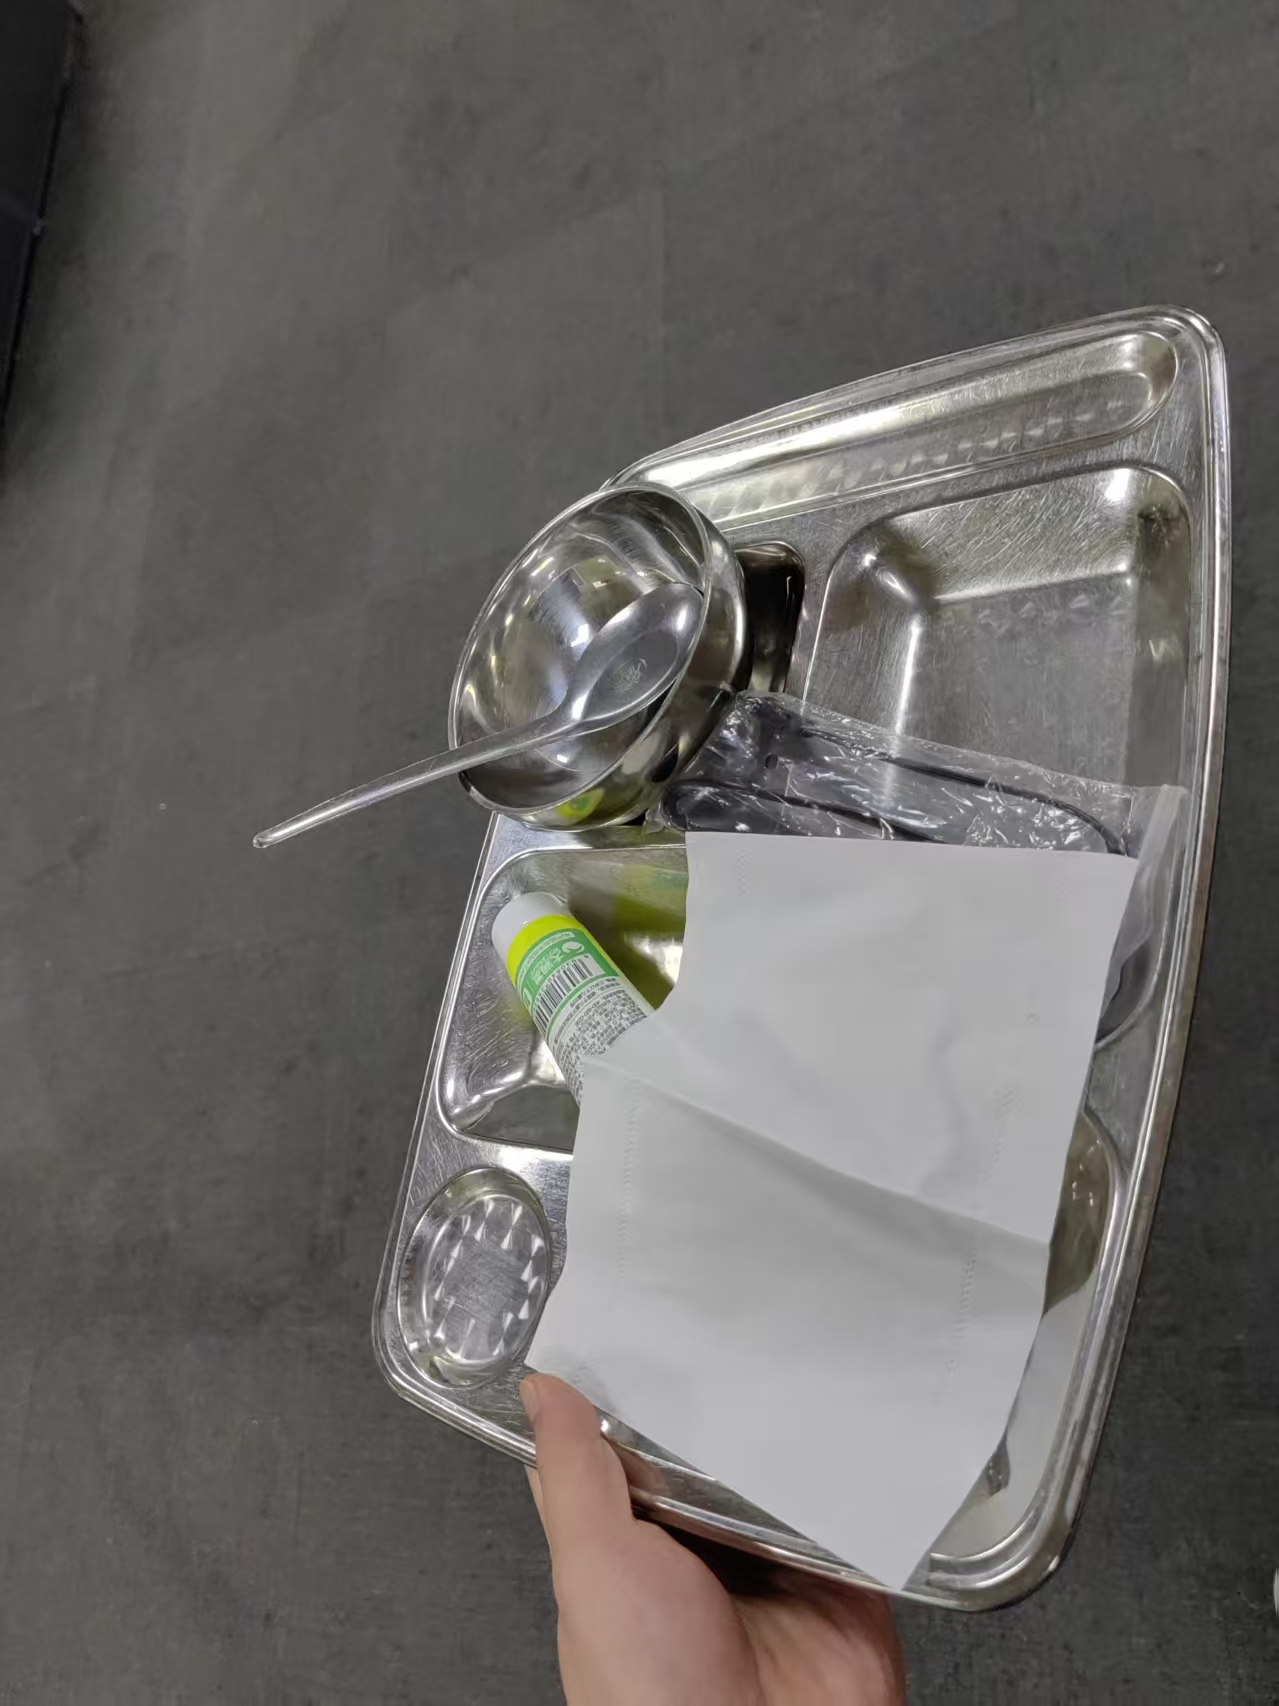mild: (487, 885, 775, 1285)
plate: (367, 300, 1231, 1616)
tissue: (523, 831, 1144, 1590)
